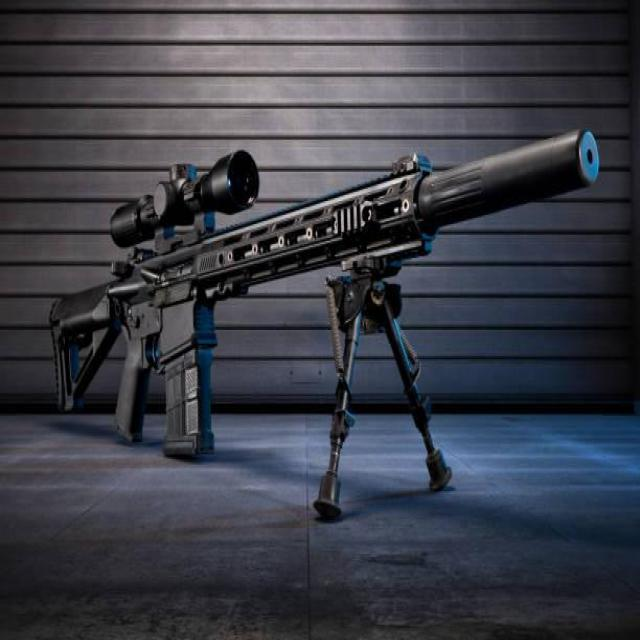heavy-weapon: (48, 123, 600, 522)
